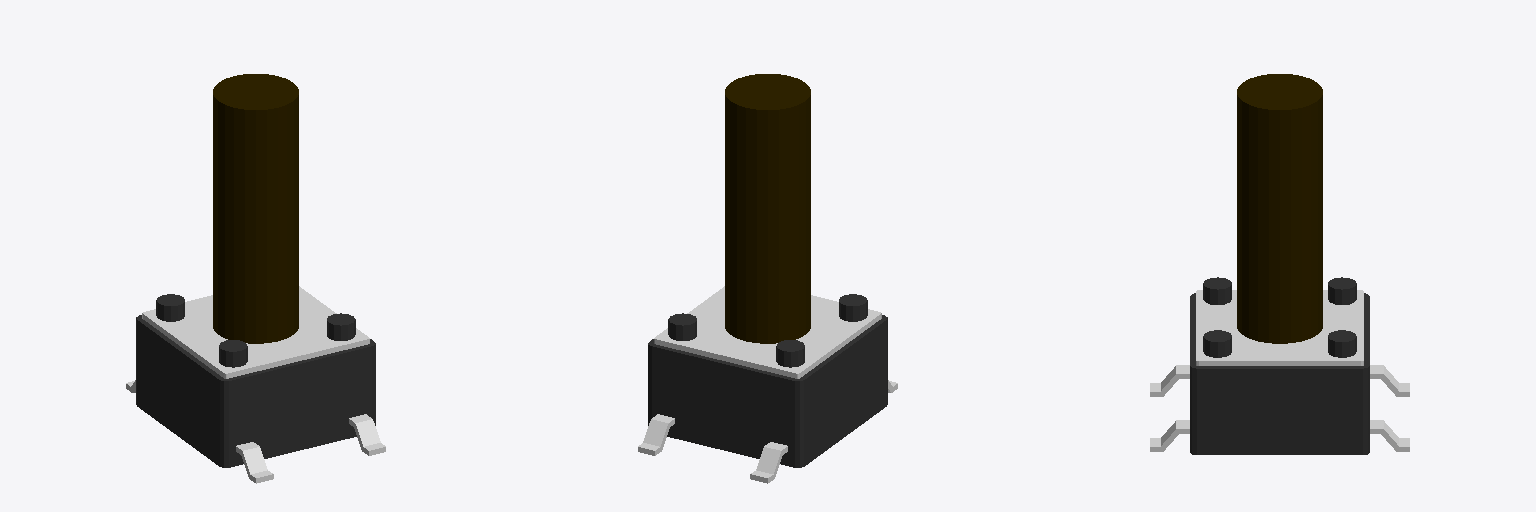
File: EB086_Tactile_Switch_12_5mm.obj
The picture shows the model from 3 angles: view 1: azimuth 30°, elevation 25°; view 2: azimuth 150°, elevation 25°; view 3: azimuth 270°, elevation 25°; orthographic projection.
Parts seen in each view (by area): view 1: Mesh1 Tactile_Switch_12_5mm1 Model; view 2: Mesh1 Tactile_Switch_12_5mm1 Model; view 3: Mesh1 Tactile_Switch_12_5mm1 Model.
Boxes of the visible parts, x1,y1,x2,y2 form: Mesh1 Tactile_Switch_12_5mm1 Model: [126, 74, 385, 483]; Mesh1 Tactile_Switch_12_5mm1 Model: [638, 74, 897, 483]; Mesh1 Tactile_Switch_12_5mm1 Model: [1150, 74, 1409, 454].
Bounding box in the file's own units: 6.2 × 12.5 × 9.